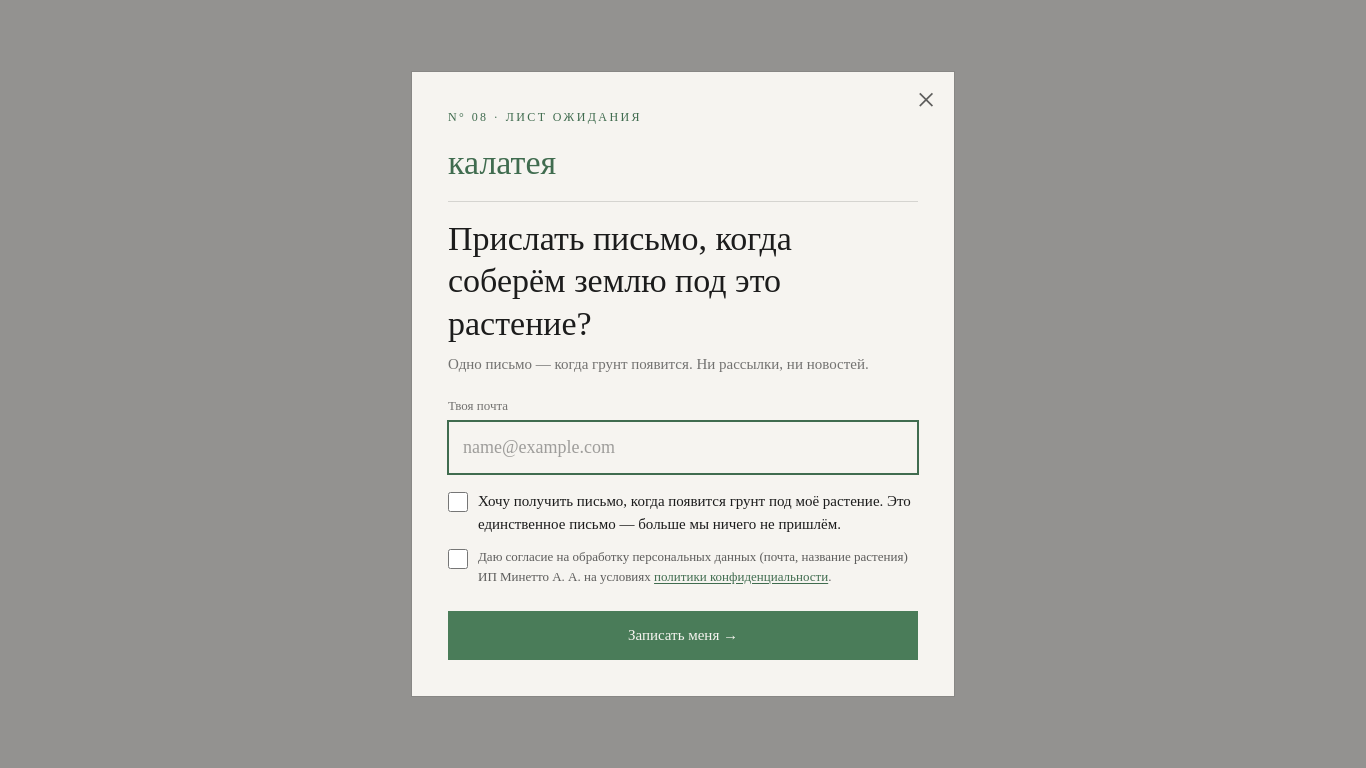
Test: WaitlistModal — пять состояний (task 3.3) › почта + оба согласия: отправка по контракту и текст успеха
In the field labelled "Твоя почта": (683, 448) [448,421,918,474], type "me@example.com"
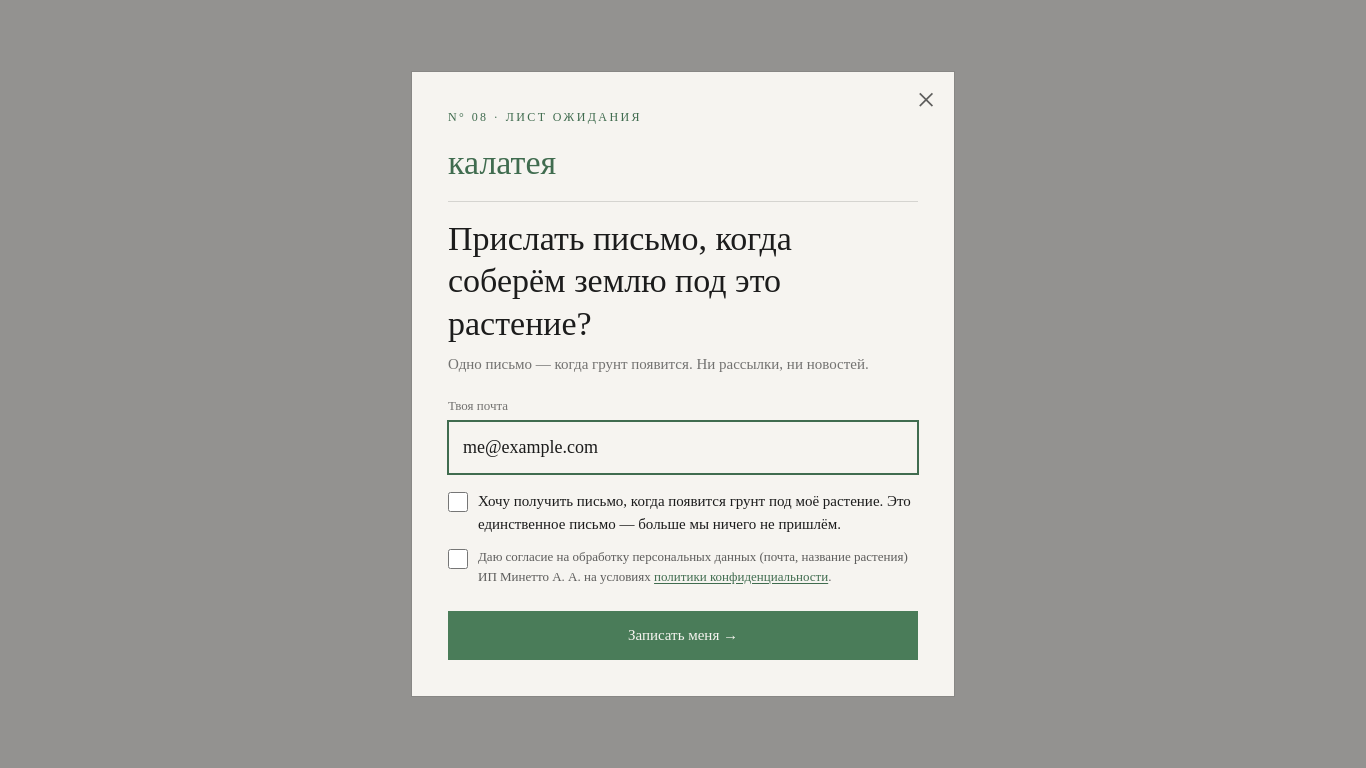
Click the 1st checkbox: (458, 502) [448,492,468,512]
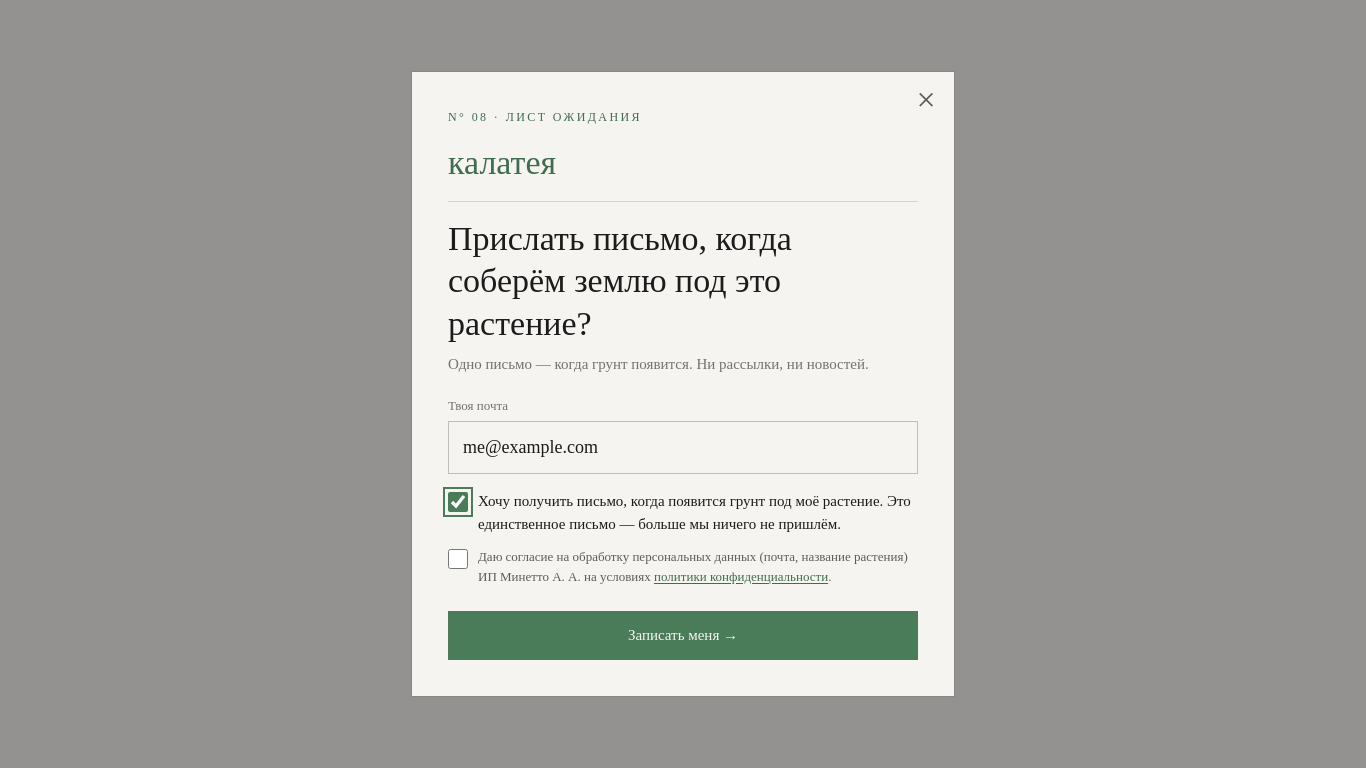
Click the 2nd checkbox: (458, 559) [448,549,468,569]
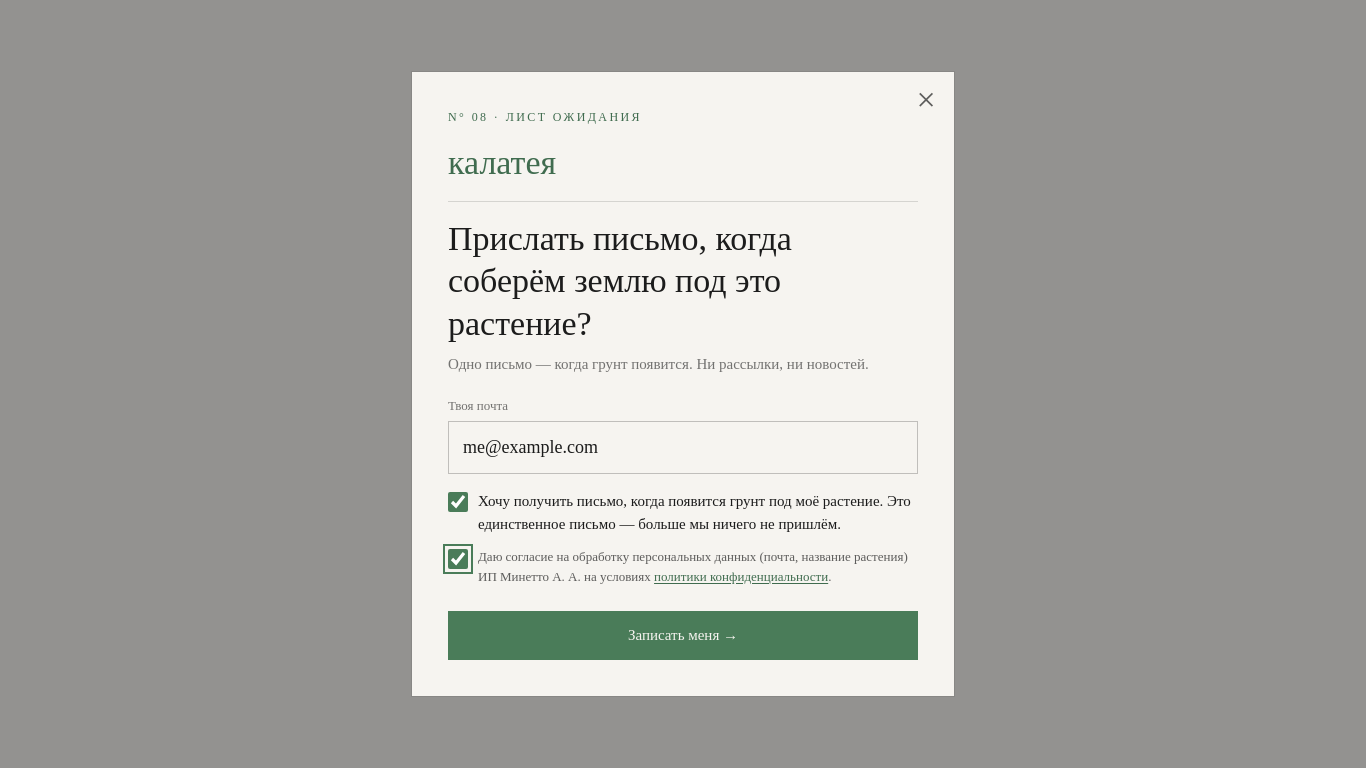
Click the button "Записать меня →": (683, 636) [448,611,918,660]
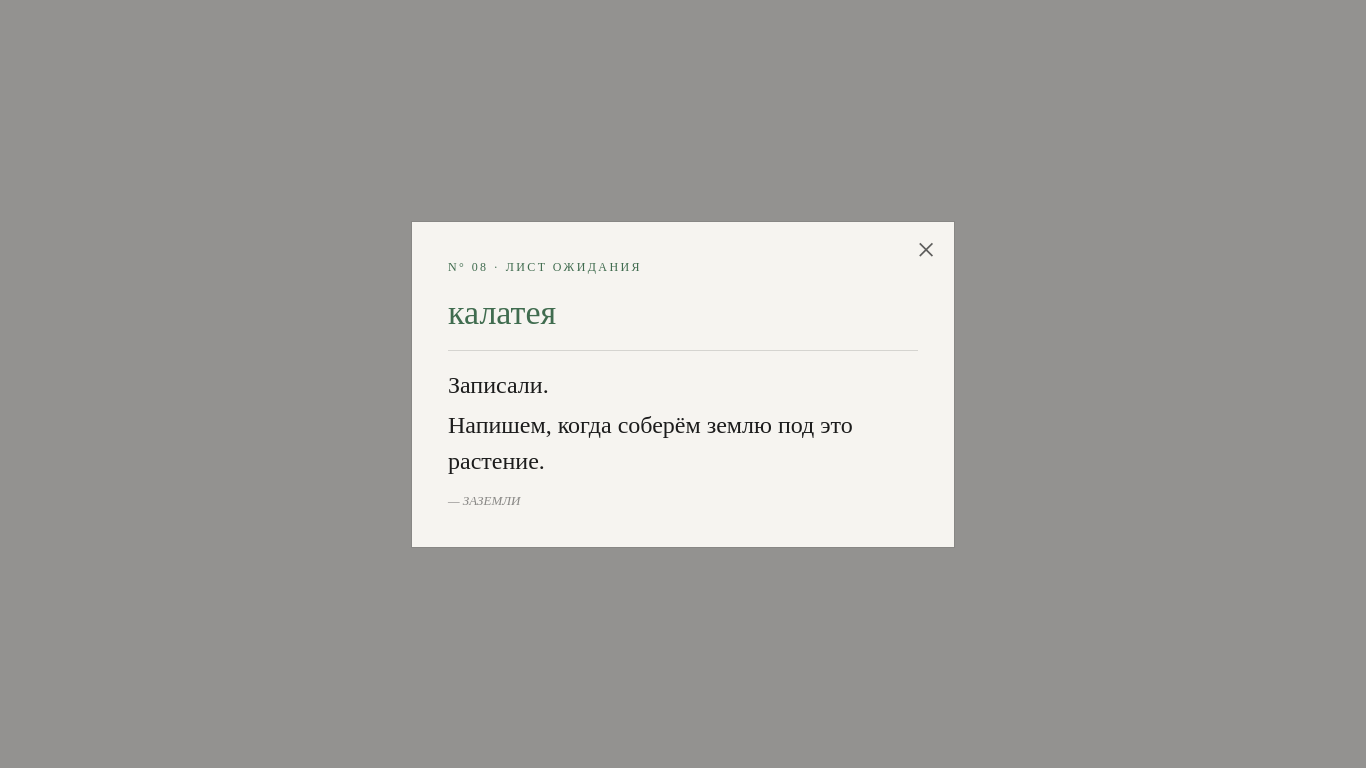
Expected: the text "Записали." is shown, [448,372,549,398]
Expected: the text "Напишем, когда соберём землю под это растение." is shown, [448,407,918,479]
Expected: the text "— ЗАЗЕМЛИ" is shown, [448,493,520,508]
